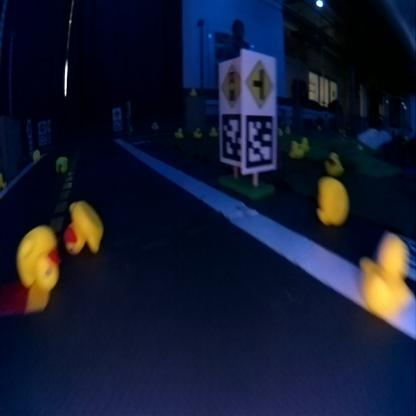Duckie: (359, 233, 411, 318), (16, 226, 58, 289), (63, 201, 102, 254), (317, 176, 345, 224), (324, 152, 344, 174), (289, 140, 303, 156), (56, 156, 68, 172), (300, 137, 310, 149), (192, 127, 202, 137), (173, 127, 182, 138), (208, 126, 217, 136), (151, 121, 157, 129), (190, 88, 195, 96)
Intersection sign: (244, 58, 274, 111)
QR code: (245, 116, 274, 165), (220, 113, 240, 160), (113, 118, 122, 130)
Signal sign: (219, 62, 242, 106)
